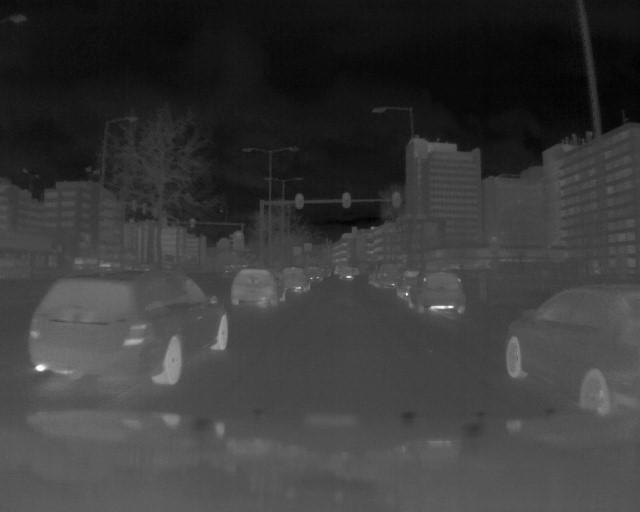car: (29, 268, 230, 385), (496, 275, 640, 421), (404, 271, 469, 317), (225, 269, 284, 307), (277, 264, 312, 295), (368, 263, 405, 291)
